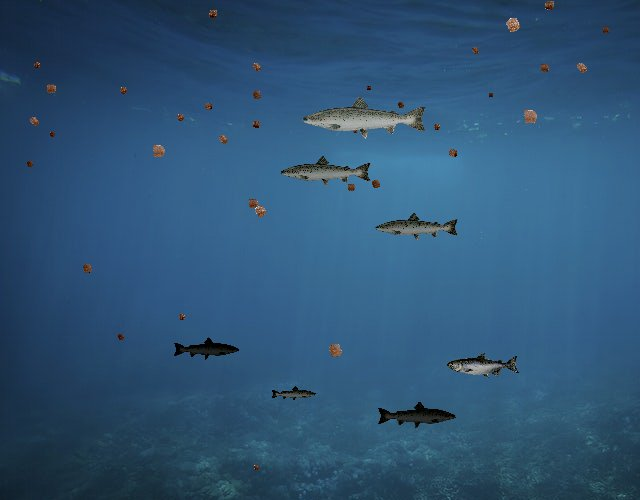Fish: (300, 94, 429, 140), (279, 154, 373, 188), (374, 211, 460, 242), (376, 400, 457, 429), (447, 353, 520, 379), (173, 336, 241, 361), (271, 385, 318, 402)
Pellet: (248, 199, 273, 224), (174, 310, 189, 325), (429, 120, 444, 134), (114, 330, 128, 344), (30, 58, 44, 72), (250, 461, 262, 473)
